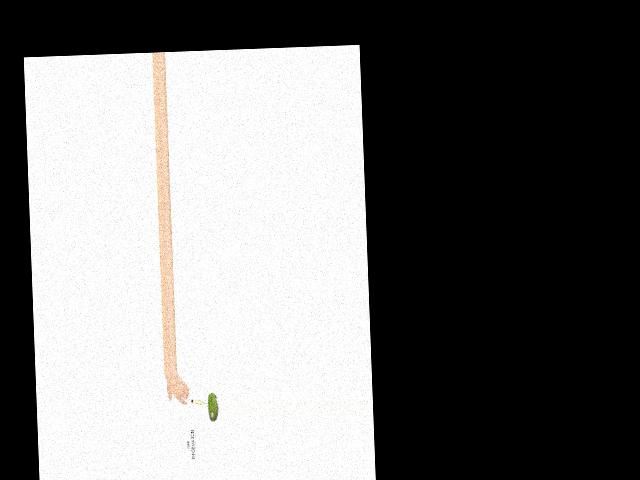cucumber: (207, 391, 218, 421)
